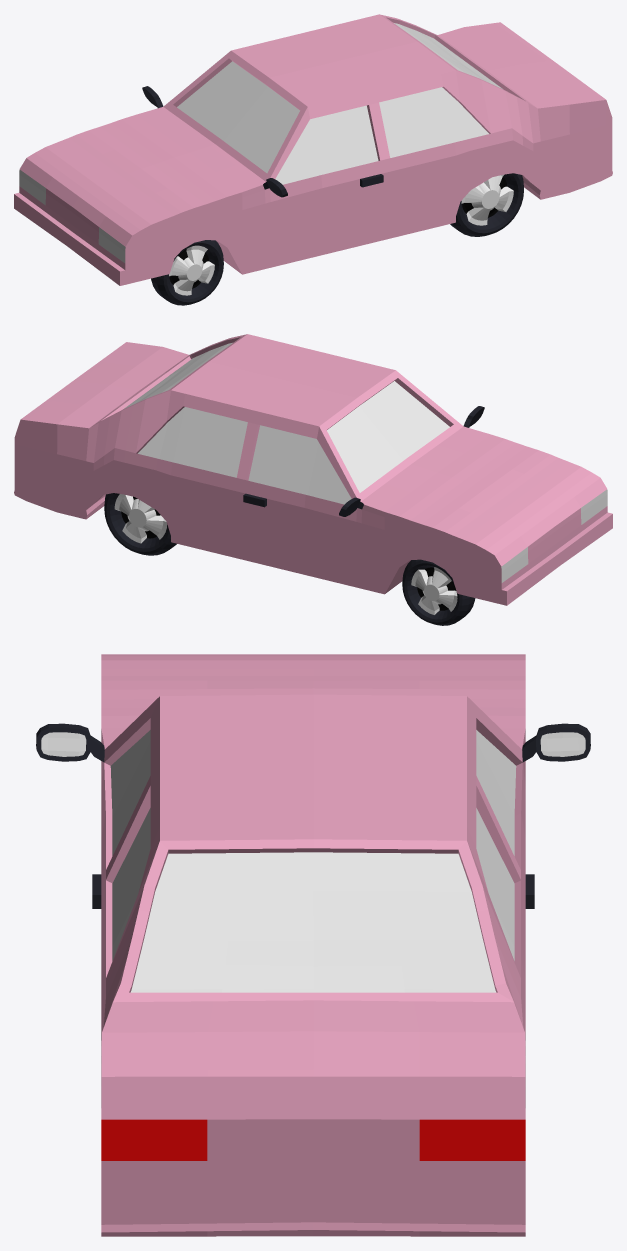
File: Tofaş.fbx
The picture shows the model from 3 angles, top to bottom: view 1: azimuth 30°, elevation 25°; view 2: azimuth 150°, elevation 25°; view 3: azimuth 270°, elevation 25°; orthographic projection. The views are drawn at different scales.
Visible parts, largest first — view 1: Tofaş, Teker arka sol, Teker ön sol; view 2: Tofaş, Teker ön sağ, Teker arka sağ; view 3: Tofaş.
Part boxes in pixels (<box>): Tofaş: <box>14,14,612,285</box>; Teker arka sol: <box>450,173,523,236</box>; Teker ön sol: <box>151,240,223,305</box>; Tofaş: <box>14,334,612,605</box>; Teker ön sağ: <box>402,559,475,625</box>; Teker arka sağ: <box>104,493,176,555</box>; Tofaş: <box>36,654,590,1236</box>.
Bounding box in the file's own units: 771 × 257 × 376.
